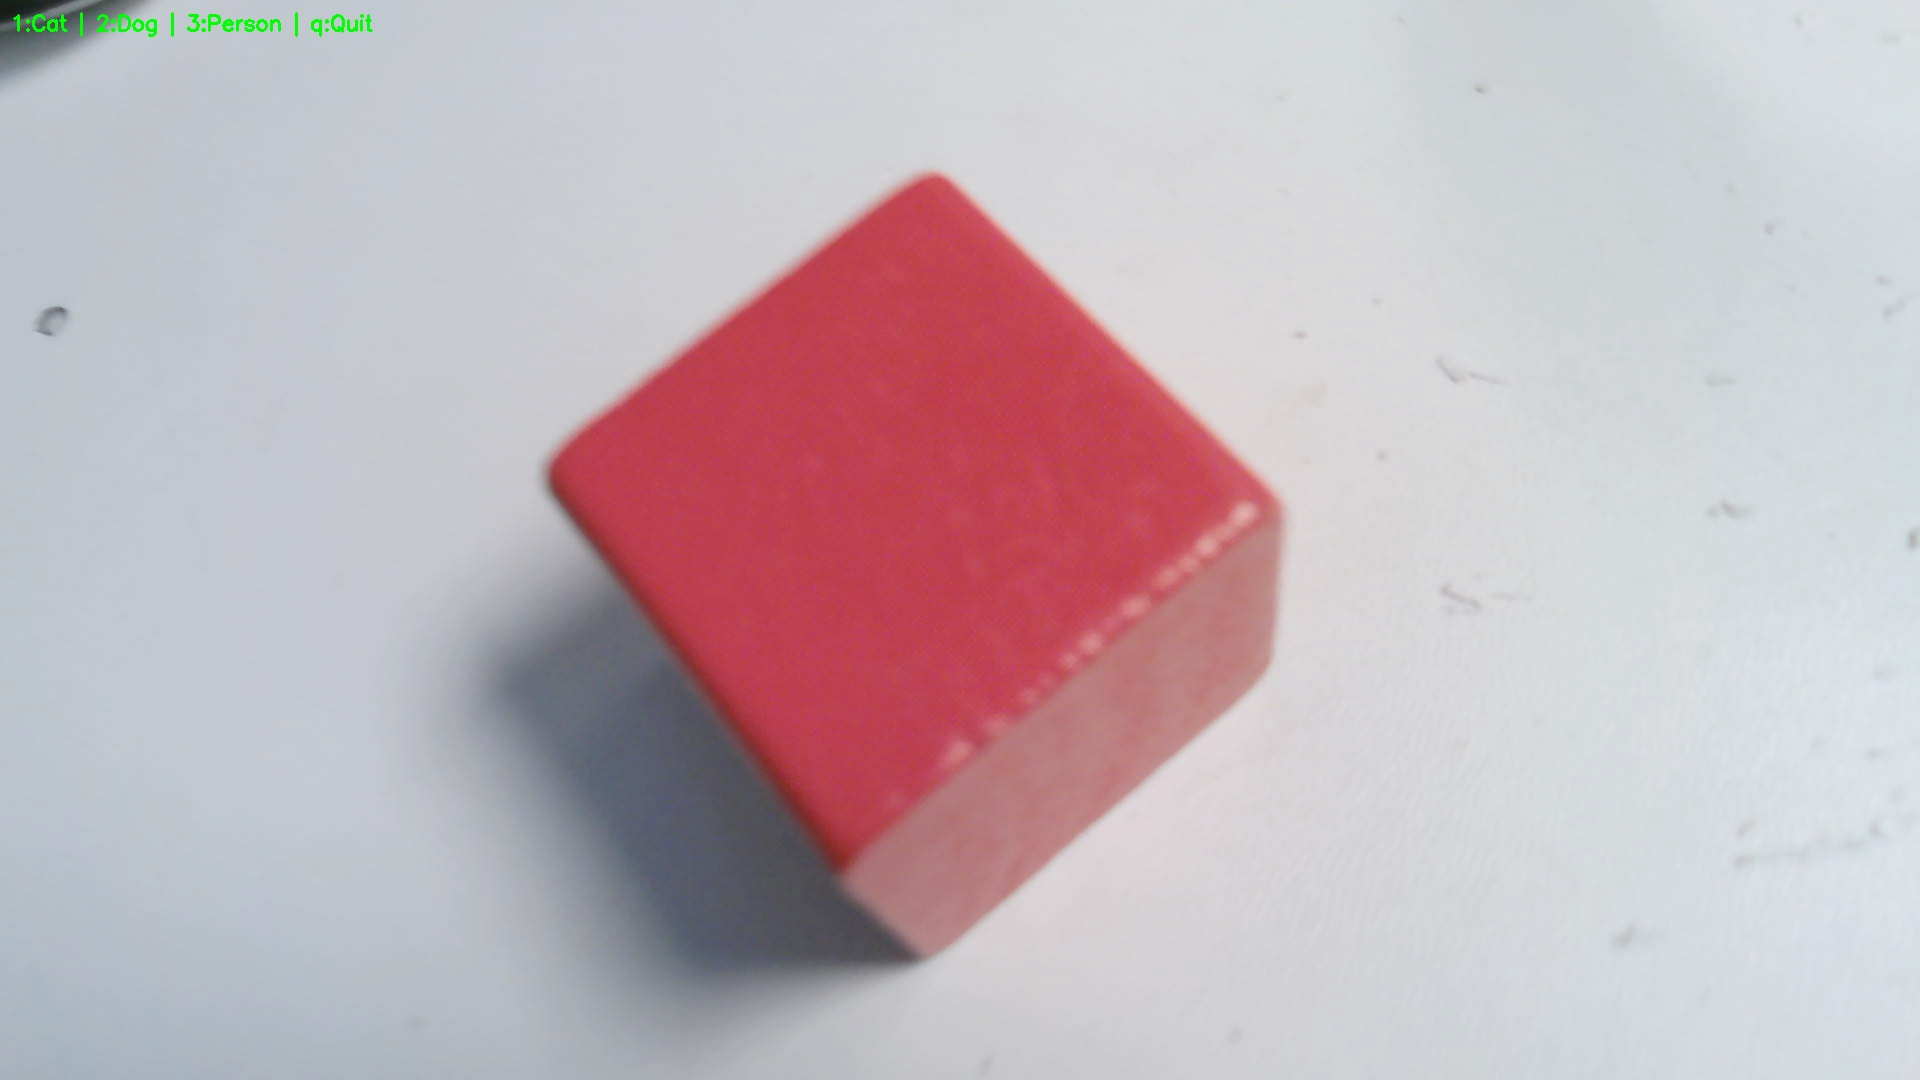red: (549, 171, 1284, 959)
